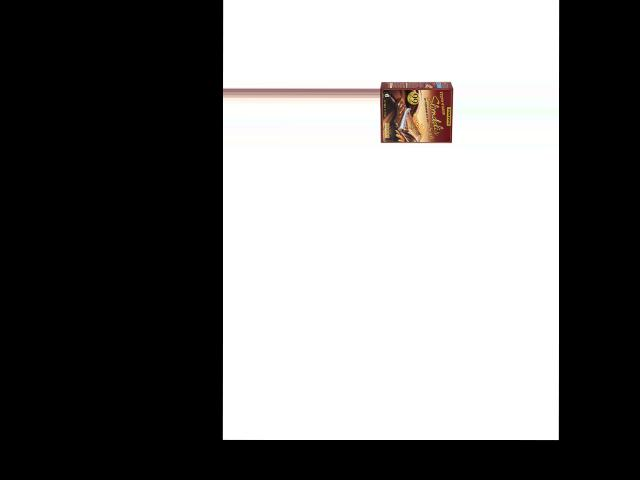chocolate: (379, 78, 454, 149)
